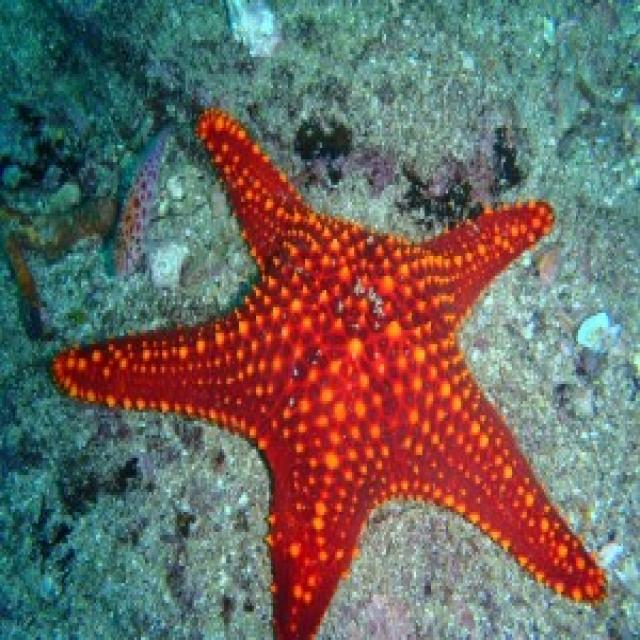Starfish: (48, 88, 621, 640)
